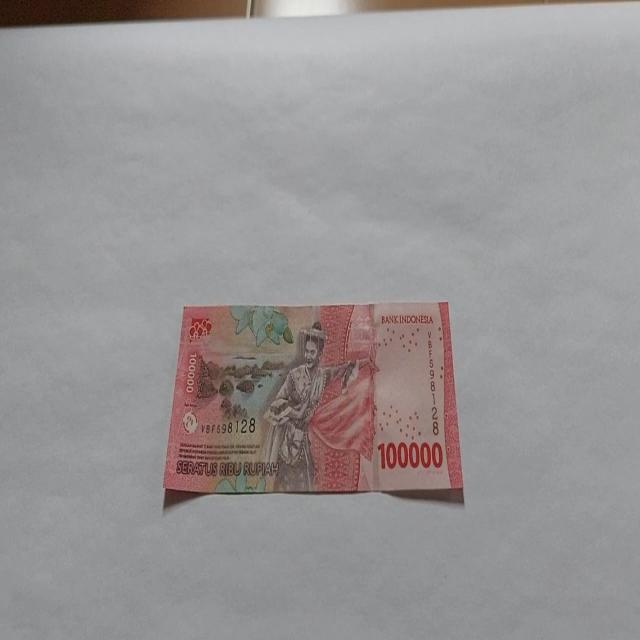Kertas: (162, 300, 464, 503), (376, 438, 444, 471)
